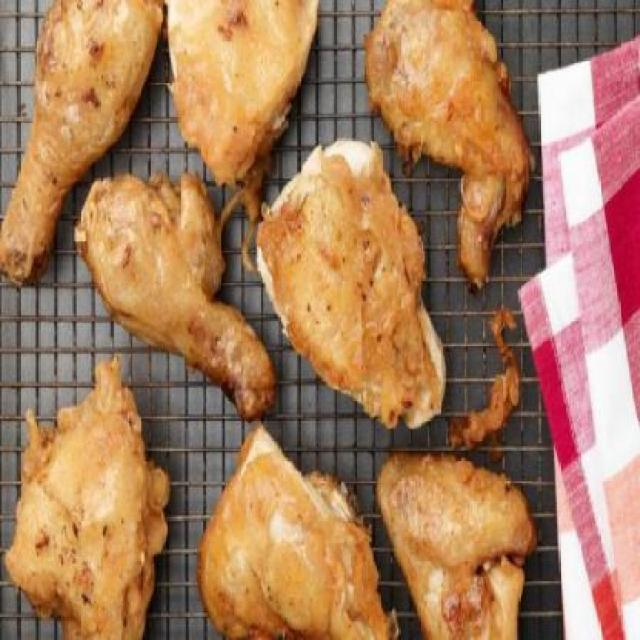Wet Waste: (254, 143, 446, 425), (363, 0, 532, 274), (78, 180, 274, 415), (3, 0, 162, 283), (4, 372, 170, 638), (194, 422, 397, 638), (378, 454, 532, 638), (166, 0, 318, 178)
